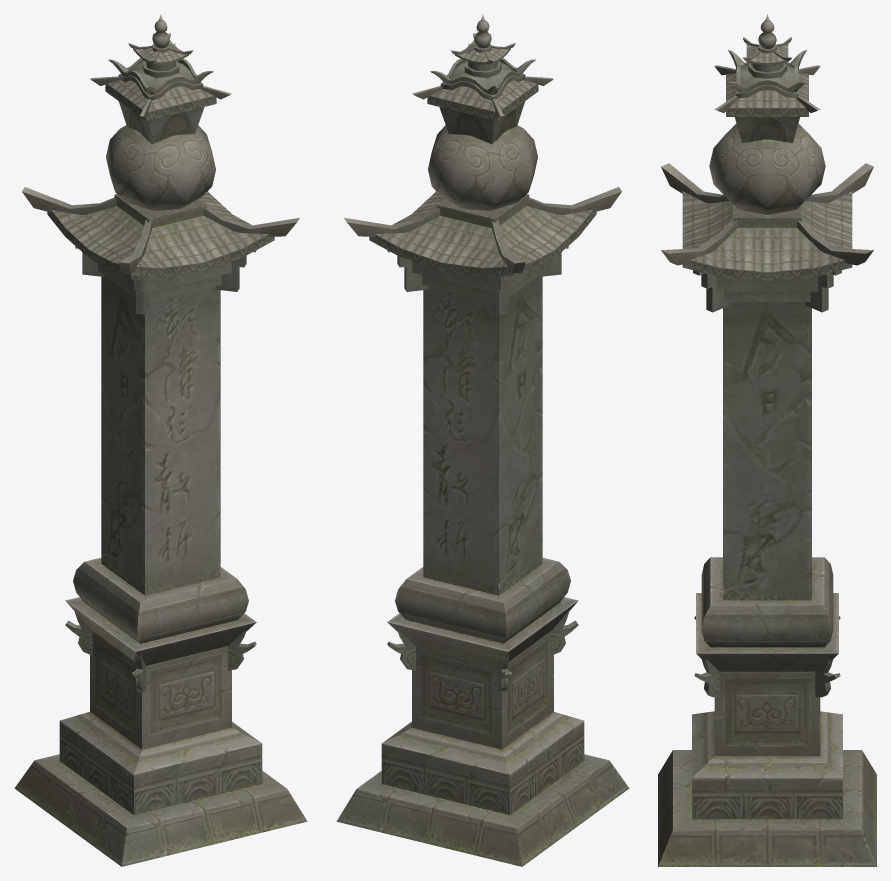
File: wlf_wujian08_jgc.FBX
3 views of the same model, side by side, from view 1: azimuth 30°, elevation 25°; view 2: azimuth 150°, elevation 25°; view 3: azimuth 270°, elevation 25° (orthographic).
Parts seen in each view (by area): view 1: wlf_wujian08_jgc; view 2: wlf_wujian08_jgc; view 3: wlf_wujian08_jgc.
Part boxes in pixels (x1=…): wlf_wujian08_jgc: x1=14, y1=14, x2=307, y2=866; wlf_wujian08_jgc: x1=336, y1=14, x2=629, y2=866; wlf_wujian08_jgc: x1=658, y1=14, x2=876, y2=866.
Size of the model in its own units: 10 by 40.68 by 10.
